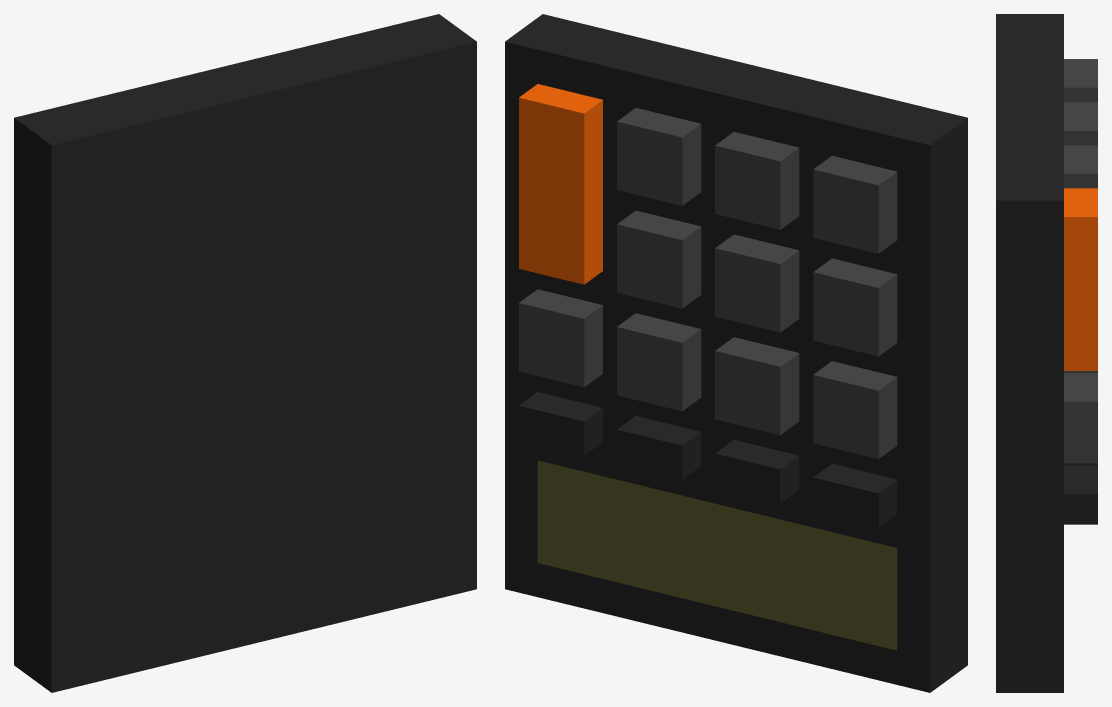
Rendered from Calculator.obj.
3 views of the same model, side by side, from view 1: azimuth 30°, elevation 25°; view 2: azimuth 150°, elevation 25°; view 3: azimuth 270°, elevation 25° (orthographic). The views are drawn at different scales.
Parts seen in each view (by area): view 1: Untitled.037; view 2: Untitled.037; view 3: Untitled.037.
Boxes of the visible parts, left/top/right/bottom form: Untitled.037: left=14, top=14, right=476, bottom=692; Untitled.037: left=505, top=14, right=967, bottom=692; Untitled.037: left=996, top=14, right=1097, bottom=692.
Bounding box in the file's own units: 1.3 × 1.6 × 0.3.
Materials: 1 (1 with a texture image).
